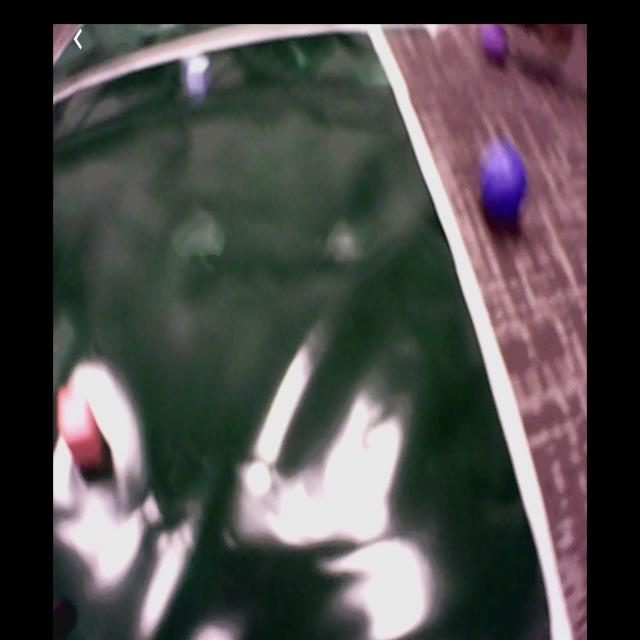ball: (481, 147, 526, 222), (481, 25, 510, 62)
